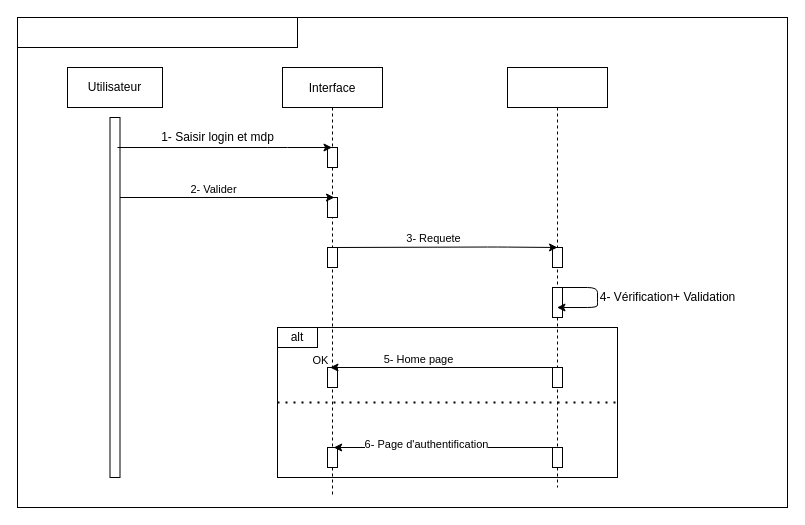
The diagram is 805 pixels wide and 525 high, and some of its shapes have lost their labels. The shapes that lost their labels are listed below. From the top down, each one's centre as x and y in pixels, then its label:
At point (157, 32): "Diagramme de séquence pour l'authentification".
At point (557, 277): "Système".
